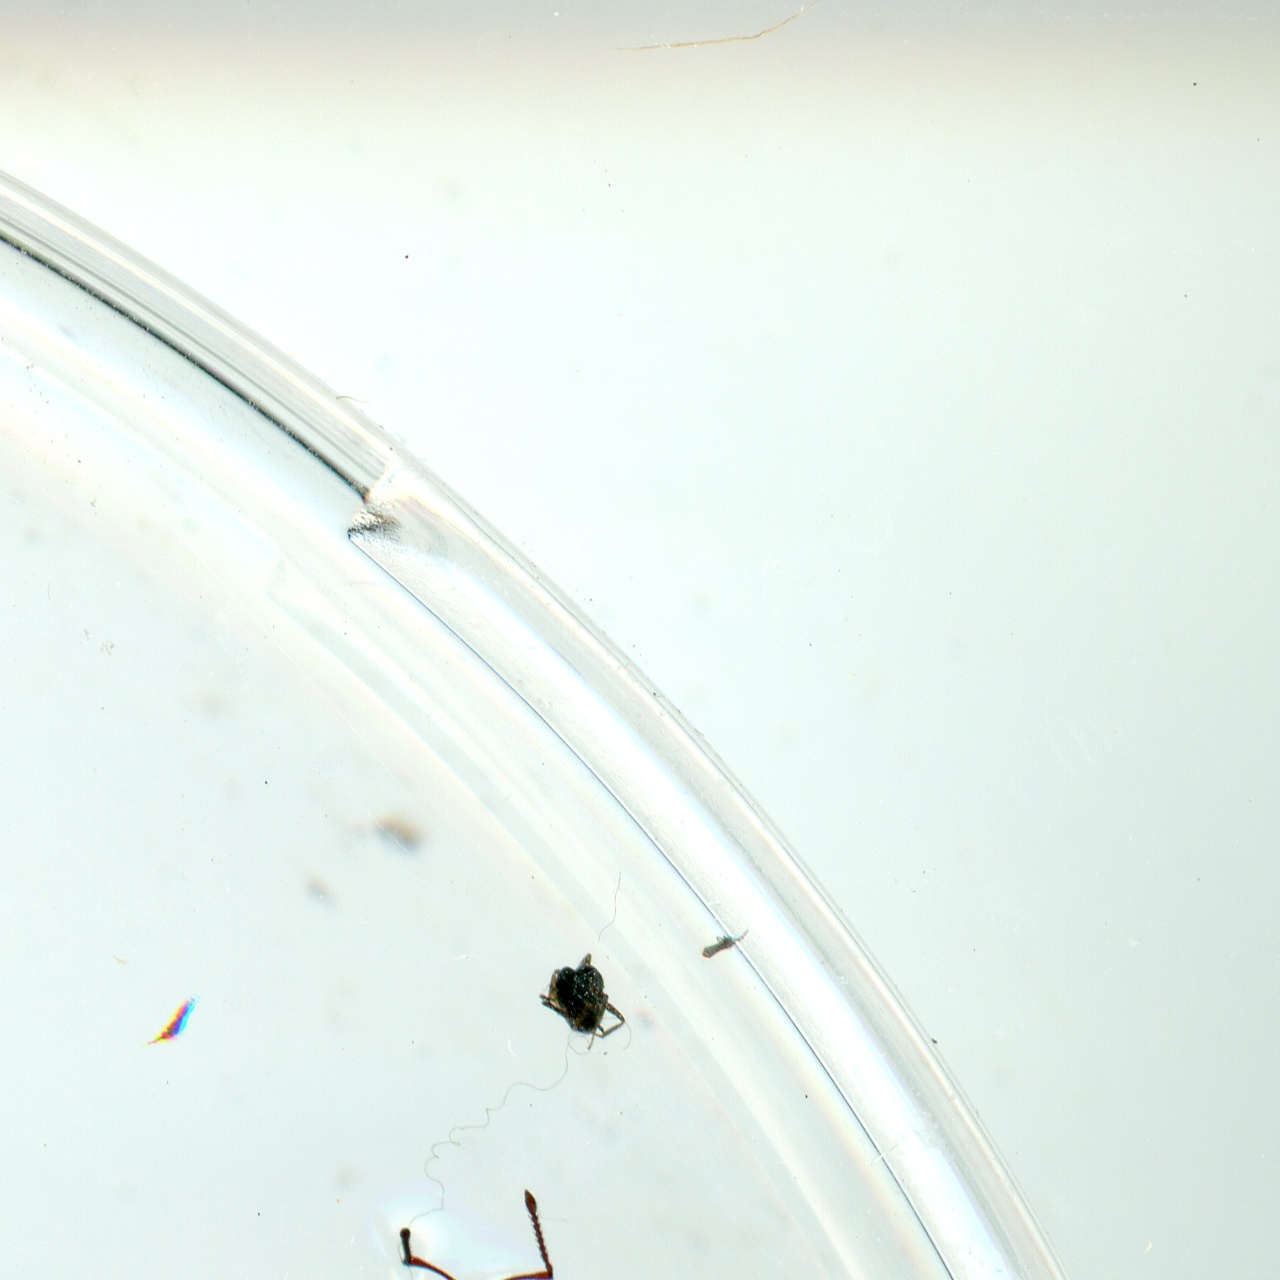arthropod: (369, 1185, 578, 1280), (138, 988, 205, 1051), (697, 924, 755, 964)
